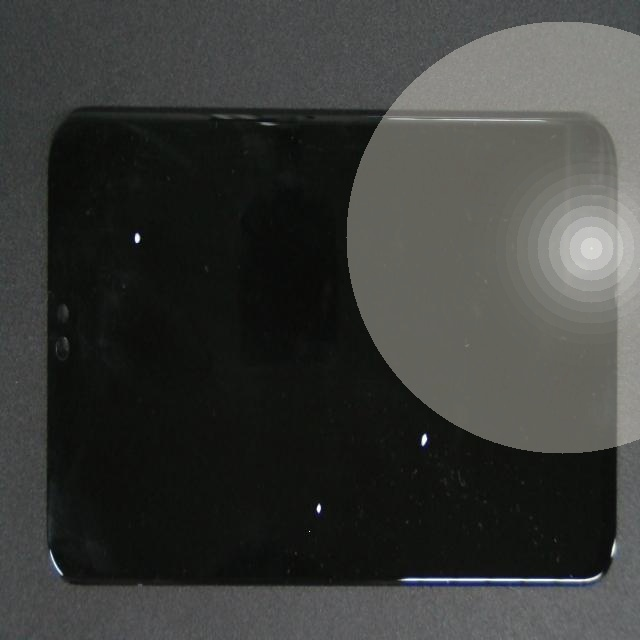stain: (217, 231, 640, 640), (152, 269, 457, 640), (62, 95, 191, 360)
